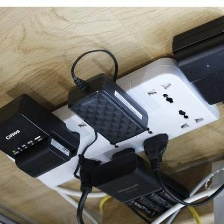three_eye_plug: (0, 54, 221, 188)
